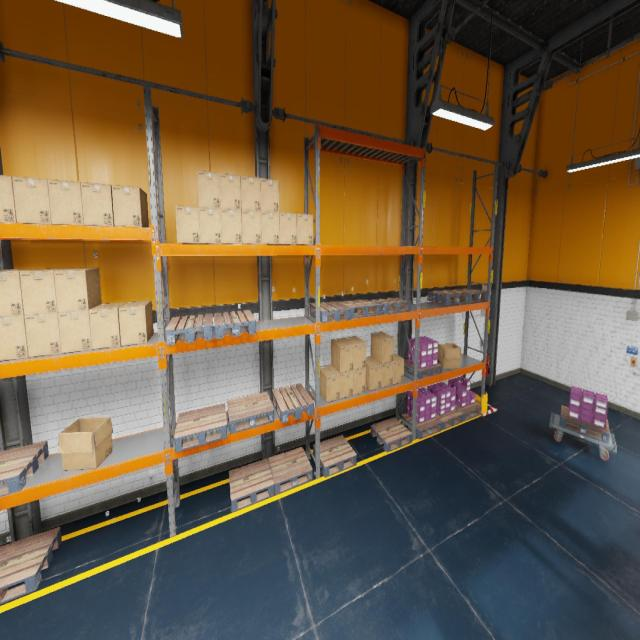box: (57, 416, 113, 471), (19, 268, 68, 314), (54, 268, 101, 312), (12, 176, 52, 224), (89, 302, 127, 349), (0, 268, 37, 316), (118, 300, 154, 346), (48, 179, 84, 225), (111, 184, 149, 227), (24, 313, 61, 357), (80, 182, 114, 226), (58, 311, 92, 353), (0, 315, 28, 360), (176, 205, 200, 244), (197, 170, 220, 208), (198, 208, 222, 244), (219, 172, 241, 210), (0, 175, 17, 223), (331, 338, 353, 373), (320, 364, 340, 402), (344, 336, 366, 370), (221, 209, 242, 244), (240, 176, 261, 210), (371, 332, 394, 363), (371, 356, 393, 388), (242, 210, 262, 244), (260, 178, 279, 212), (438, 343, 461, 369), (279, 212, 297, 245), (295, 213, 313, 245), (261, 212, 279, 244), (366, 356, 382, 391), (335, 368, 353, 399), (353, 368, 366, 396), (393, 353, 404, 384)
pallets: (0, 527, 62, 604), (0, 441, 49, 496), (174, 403, 227, 452), (229, 458, 274, 512), (268, 447, 312, 495), (227, 392, 274, 434), (559, 406, 610, 444), (313, 435, 357, 477), (272, 384, 314, 423), (165, 313, 213, 345), (371, 417, 412, 452), (214, 310, 256, 339), (402, 413, 442, 439), (309, 301, 351, 323), (337, 299, 381, 318), (404, 359, 442, 379), (371, 298, 411, 314), (427, 290, 468, 304), (449, 288, 488, 302), (436, 409, 462, 430), (455, 402, 481, 422)
